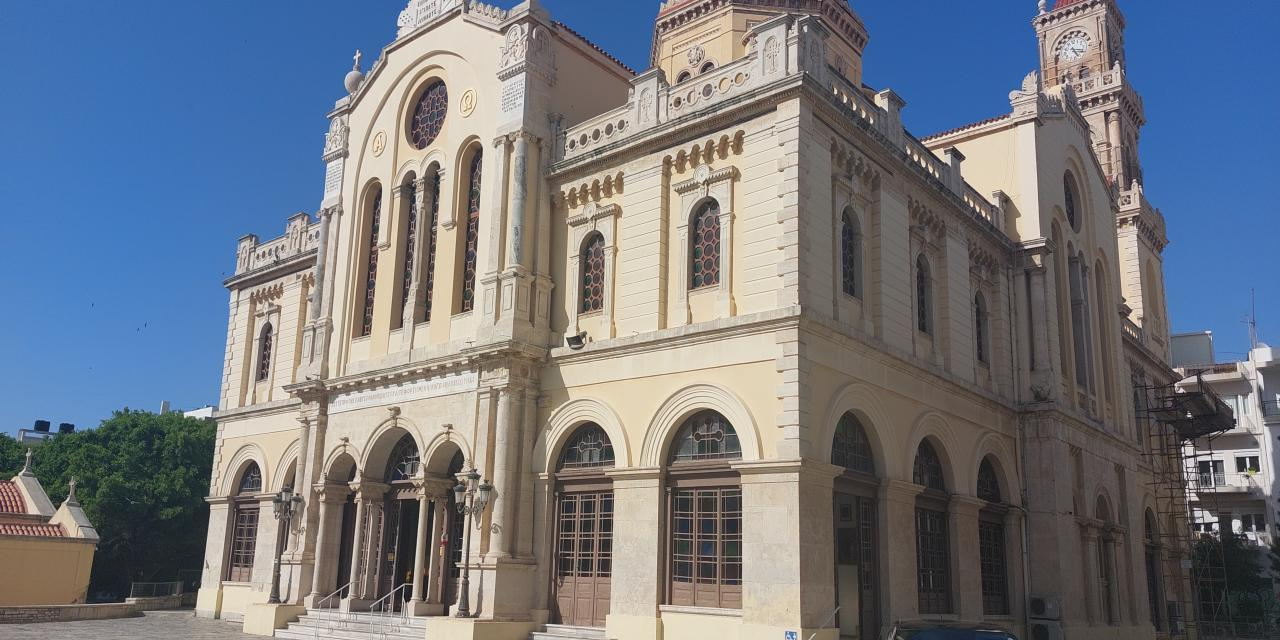Agios Minas: (200, 1, 1196, 640)
